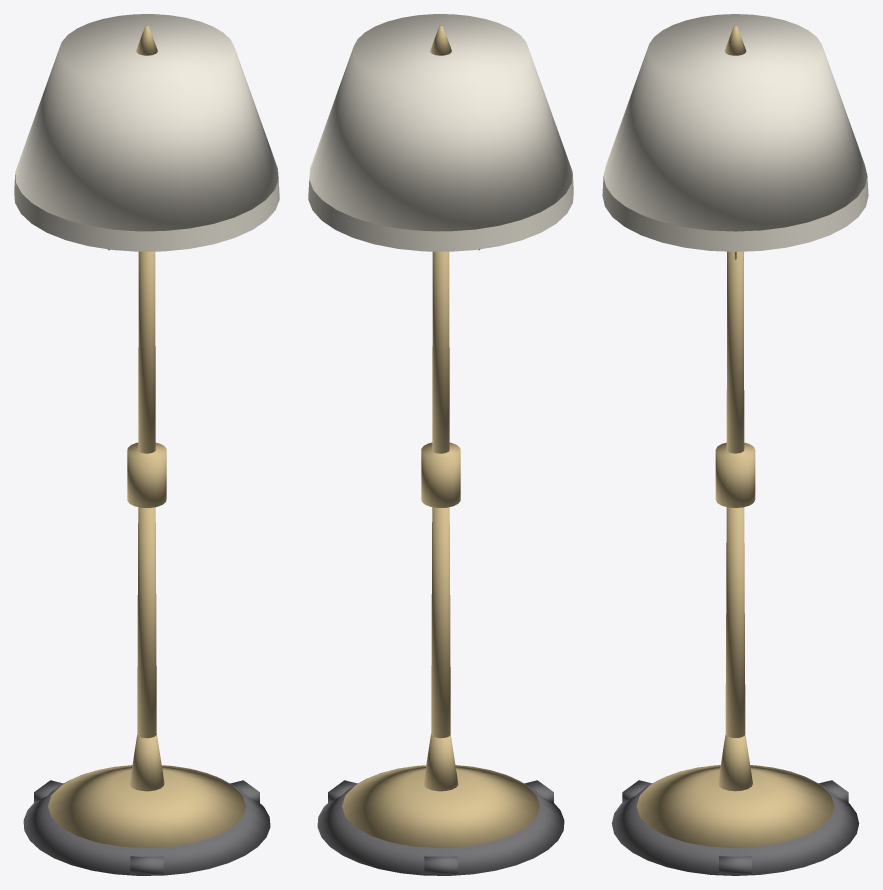
File: SM_Light_FloorLamp_01.glb
3 views of the same model, side by side, from view 1: azimuth 30°, elevation 25°; view 2: azimuth 150°, elevation 25°; view 3: azimuth 270°, elevation 25° (orthographic).
Parts seen in each view (by area): view 1: SM_Light_FloorLamp_01; view 2: SM_Light_FloorLamp_01; view 3: SM_Light_FloorLamp_01.
Part boxes in pixels (box(x1,y1,x2,y2)): SM_Light_FloorLamp_01: box(14, 14, 279, 875); SM_Light_FloorLamp_01: box(308, 14, 573, 875); SM_Light_FloorLamp_01: box(602, 14, 868, 875).
Size of the model in its own units: 0.484 by 1.6 by 0.484.
